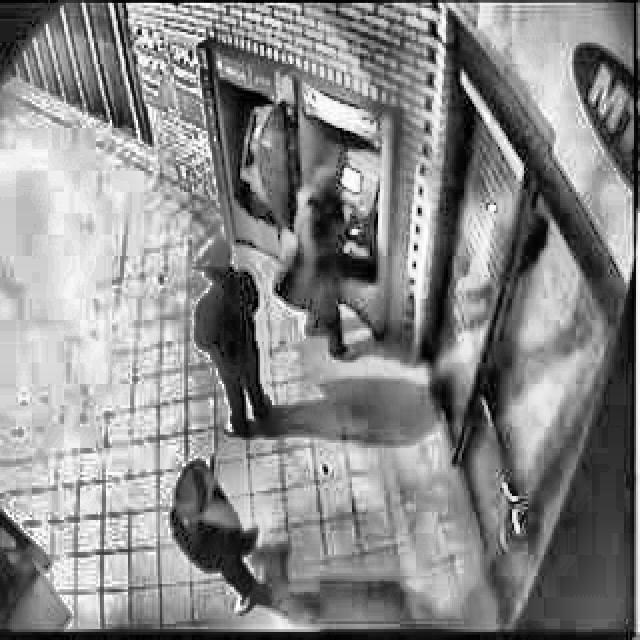burglary: (190, 90, 388, 442), (168, 449, 265, 619)
